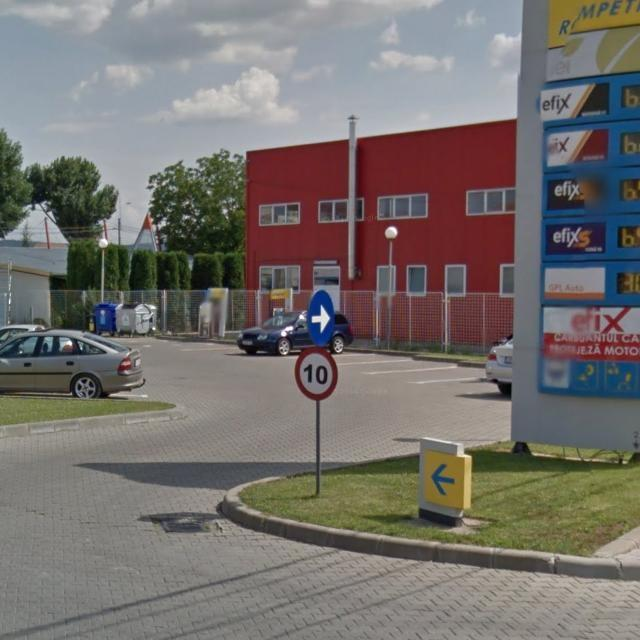forb_speed_over_10: (295, 346, 339, 401)
